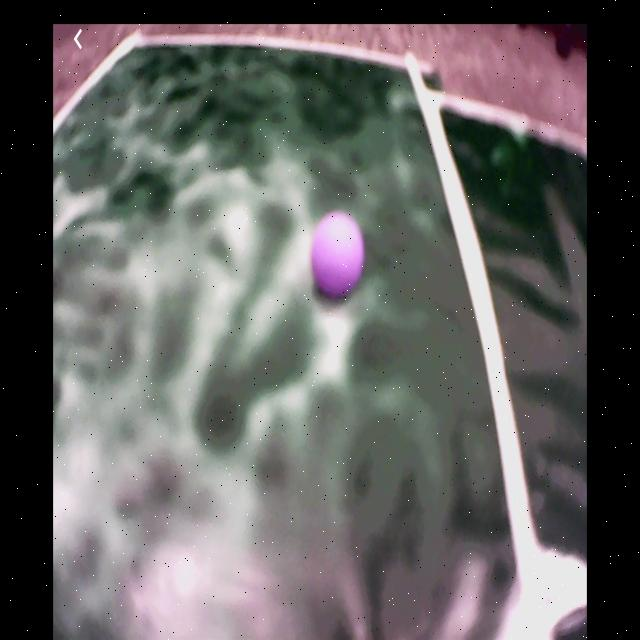ball: (312, 214, 367, 297)
